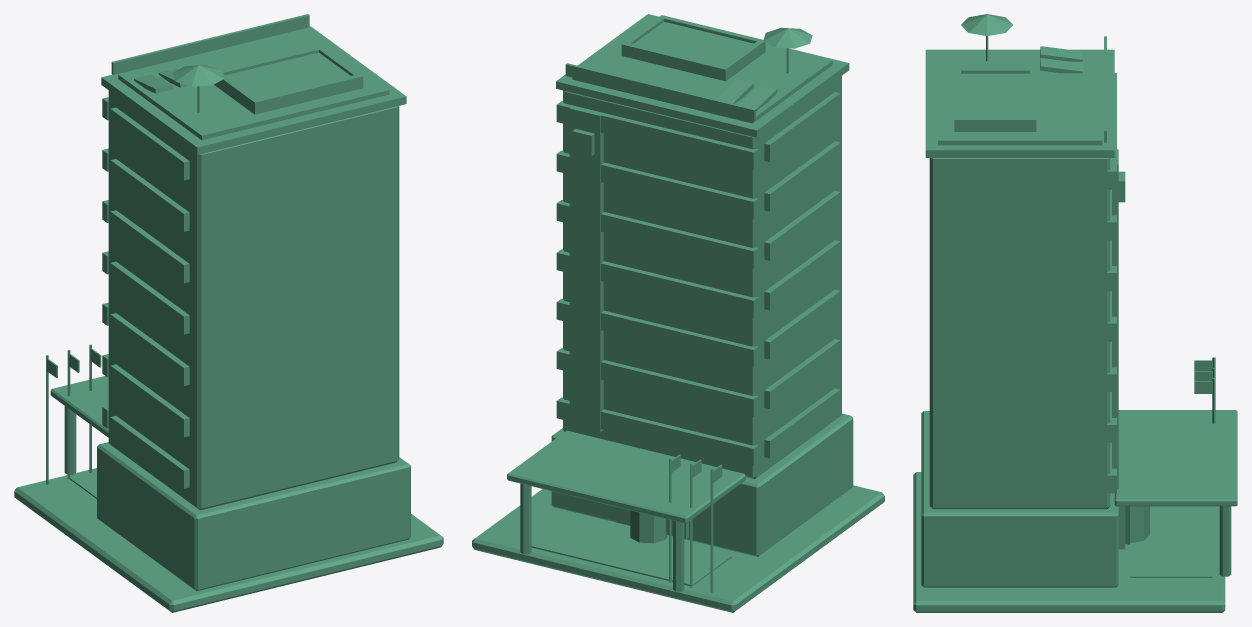
The picture shows the model from 3 angles, left to right: view 1: azimuth 30°, elevation 25°; view 2: azimuth 150°, elevation 25°; view 3: azimuth 270°, elevation 25°; orthographic projection. The views are drawn at different scales.
Parts seen in each view (by area): view 1: corpo; view 2: corpo; view 3: corpo.
Part boxes in pixels (x1,y1,x2,y2): corpo: [14, 14, 443, 612]; corpo: [472, 14, 884, 612]; corpo: [913, 14, 1237, 612].
Bounding box in the file's own units: 1.9 × 3.35 × 1.98.
